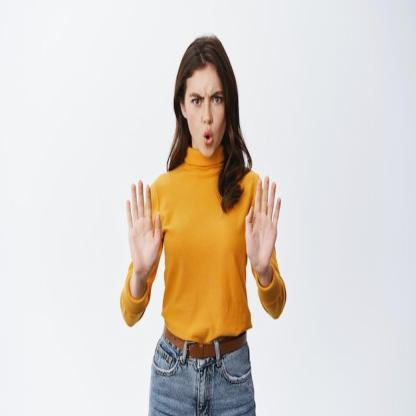stop: (123, 176, 165, 280), (244, 173, 282, 276)
